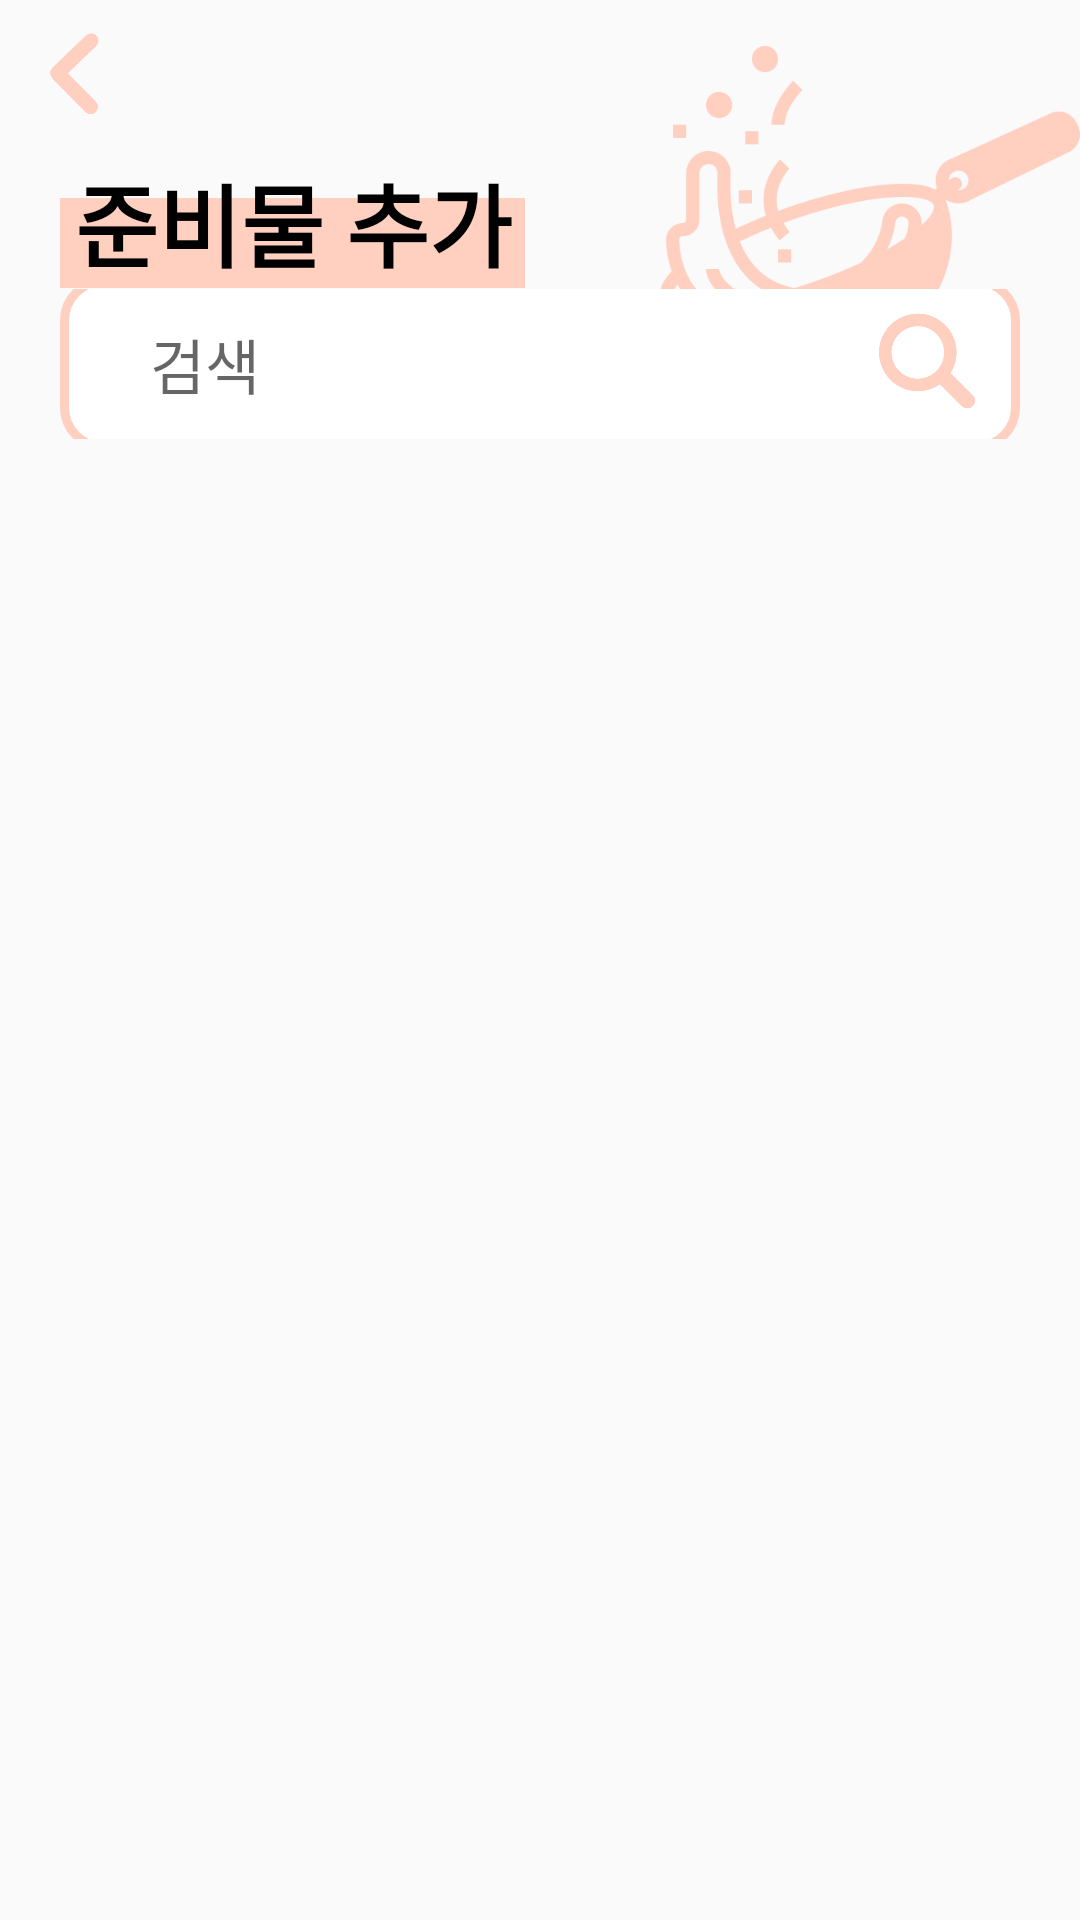

Named icons in this screenshot (1080px×1920px) and their centers, [x,y]:
back: [74,73]
search: [927,361]
